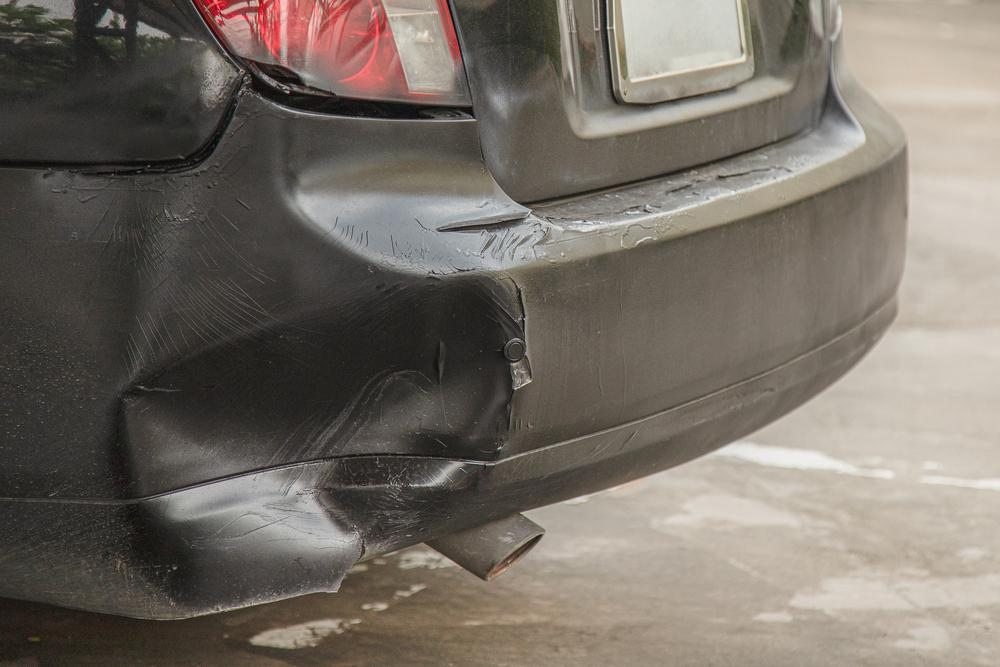dent: (130, 274, 517, 557)
lamp broken: (189, 0, 474, 110)
scratch: (113, 247, 282, 387)
